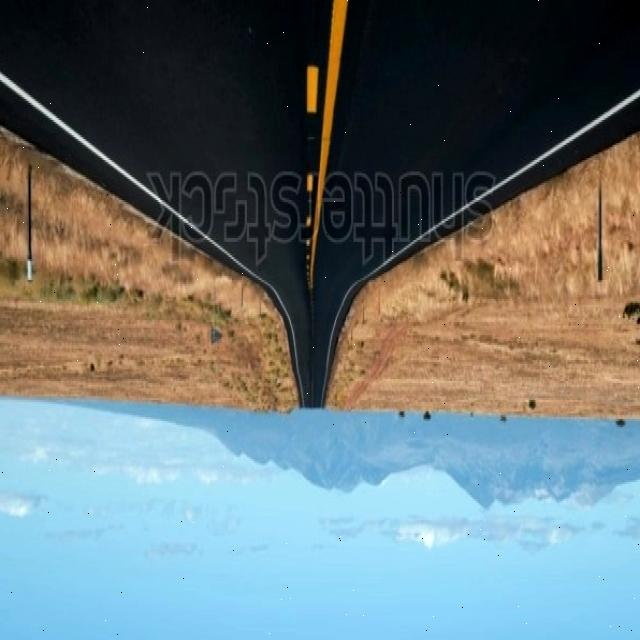lane: (310, 2, 348, 291)
road: (1, 4, 640, 408)
